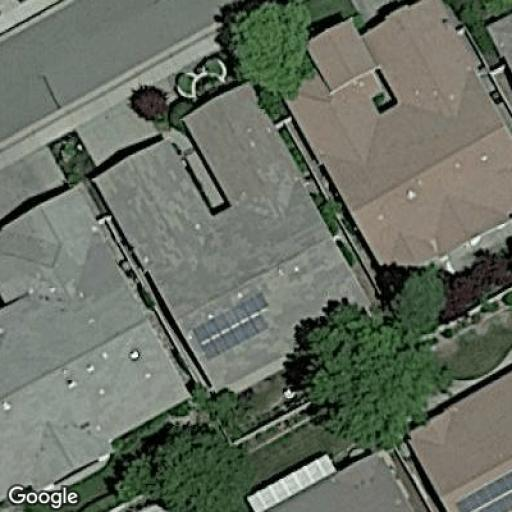solar-panel: (189, 289, 272, 362), (448, 466, 511, 512)
